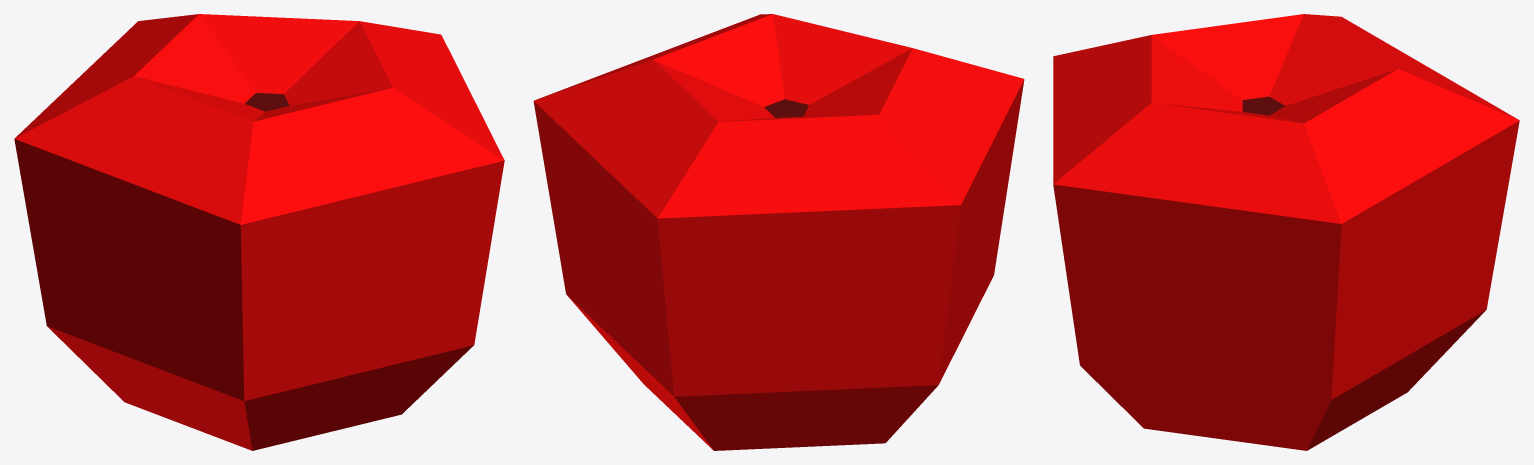
The model's file is cherry02.obj.
3 views of the same model, side by side, from view 1: azimuth 30°, elevation 25°; view 2: azimuth 150°, elevation 25°; view 3: azimuth 270°, elevation 25° (orthographic).
Parts seen in each view (by area): view 1: Cylinder; view 2: Cylinder; view 3: Cylinder.
Part boxes in pixels (x1=…): Cylinder: x1=14, y1=14, x2=504, y2=450; Cylinder: x1=533, y1=14, x2=1024, y2=450; Cylinder: x1=1053, y1=14, x2=1519, y2=450.
Bounding box in the file's own units: 0.0298 × 0.0217 × 0.0283.
Materials: 1 (1 with a texture image).
